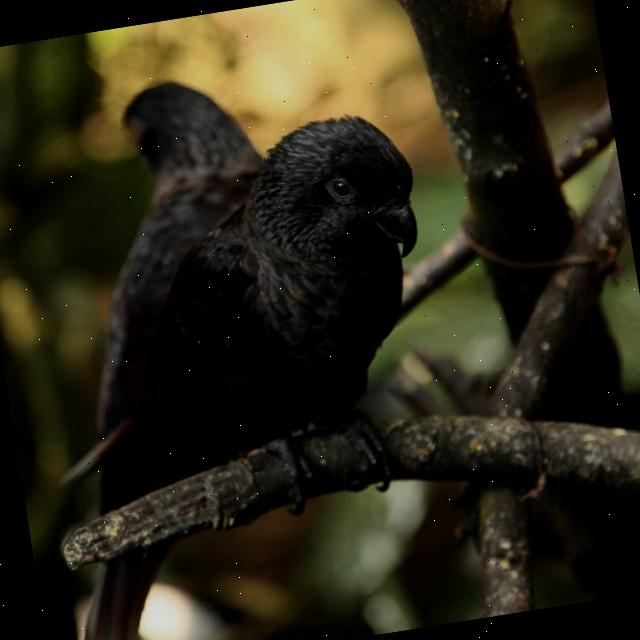Nuri Hitam: (112, 105, 480, 557), (39, 58, 305, 446)
